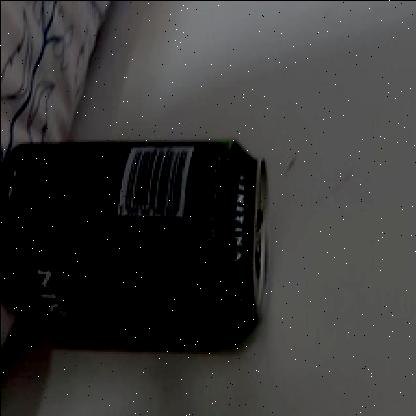Can: (0, 137, 268, 339)
